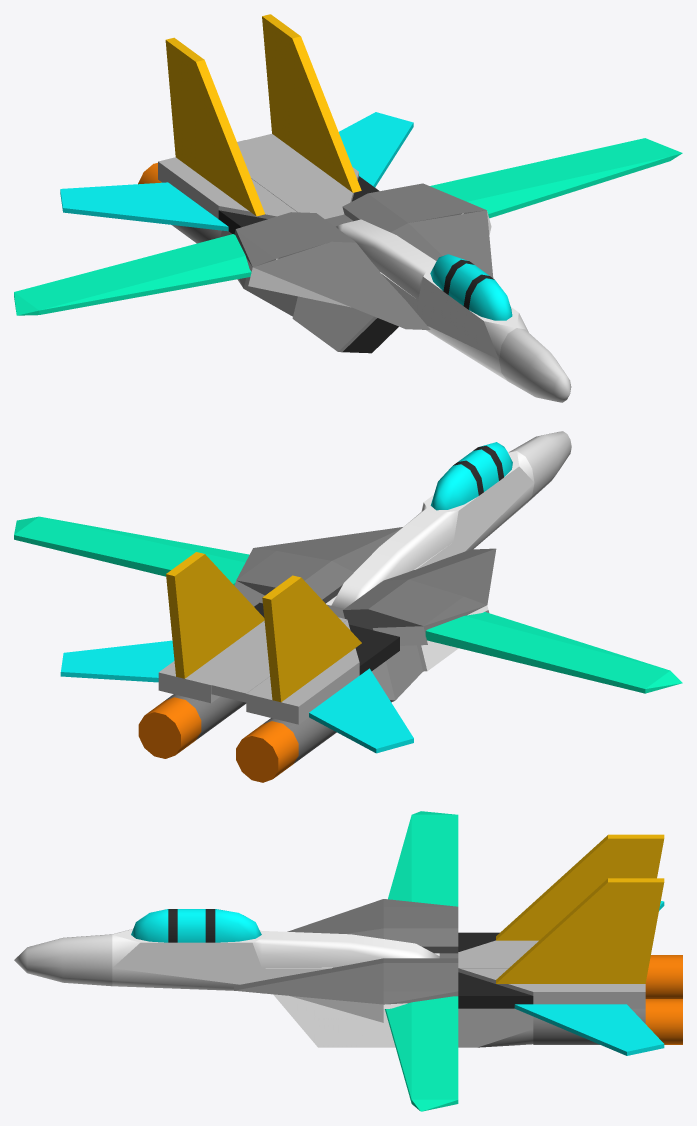
3 renders of one model, top to bottom at view 1: azimuth 30°, elevation 25°; view 2: azimuth 150°, elevation 25°; view 3: azimuth 270°, elevation 25°, orthographic. The views are drawn at different scales.
Parts seen in each view (by area): view 1: the_scene/tri_3546_geometry, the_scene/tri_1356_geometry, the_scene/tri_1656_geometry, the_scene/tri_210_geometry, the_scene/tri_732_geometry, the_scene/tri_1824_geometry, the_scene/tri_1452_geometry, the_scene/tri_2760_geometry, the_scene/tri_1500_geometry, the_scene/tri_120_geometry, the_scene/tri_1788_geometry, the_scene/tri_2664_geometry (+33 smaller); view 2: the_scene/tri_3546_geometry, the_scene/tri_1356_geometry, the_scene/tri_1824_geometry, the_scene/tri_210_geometry, the_scene/tri_1656_geometry, the_scene/tri_3702_geometry, the_scene/tri_3612_geometry, the_scene/tri_1788_geometry, the_scene/tri_2286_geometry, the_scene/tri_2664_geometry, the_scene/tri_732_geometry, the_scene/tri_2760_geometry (+35 smaller); view 3: the_scene/tri_1656_geometry, the_scene/tri_1356_geometry, the_scene/tri_3546_geometry, the_scene/tri_210_geometry, the_scene/tri_2664_geometry, the_scene/tri_1032_geometry, the_scene/tri_3570_geometry, the_scene/tri_1452_geometry, the_scene/tri_372_geometry, the_scene/tri_1380_geometry, the_scene/tri_1212_geometry, the_scene/tri_1824_geometry (+33 smaller).
Part boxes in pixels (x1,y1,x2,y2): the_scene/tri_3546_geometry: (14,234,245,310); the_scene/tri_1356_geometry: (430,138,669,201); the_scene/tri_1656_geometry: (292,36,361,192); the_scene/tri_210_geometry: (196,60,264,216); the_scene/tri_732_geometry: (253,242,404,328); the_scene/tri_1824_geometry: (236,212,442,260); the_scene/tri_1452_geometry: (408,210,493,277); the_scene/tri_2760_geometry: (90,190,228,231); the_scene/tri_1500_geometry: (237,140,344,218); the_scene/tri_120_geometry: (338,282,506,380); the_scene/tri_1788_geometry: (175,45,204,171); the_scene/tri_2664_geometry: (272,21,300,147); the_scene/tri_3546_geometry: (425,616,670,688); the_scene/tri_1356_geometry: (14,516,245,585); the_scene/tri_1824_geometry: (332,529,463,627); the_scene/tri_210_geometry: (301,578,361,687); the_scene/tri_1656_geometry: (205,554,264,663); the_scene/tri_3702_geometry: (246,658,359,724); the_scene/tri_3612_geometry: (158,634,266,703); the_scene/tri_1788_geometry: (273,575,301,701); the_scene/tri_2286_geometry: (353,512,453,602); the_scene/tri_2664_geometry: (176,552,204,678); the_scene/tri_732_geometry: (409,549,496,604); the_scene/tri_2760_geometry: (319,668,406,726); the_scene/tri_1656_geometry: (496,879,607,983); the_scene/tri_1356_geometry: (411,996,458,1099); the_scene/tri_3546_geometry: (411,814,458,906); the_scene/tri_210_geometry: (496,835,607,940); the_scene/tri_2664_geometry: (608,878,645,983); the_scene/tri_1032_geometry: (262,938,427,968); the_scene/tri_3570_geometry: (112,968,308,990); the_scene/tri_1452_geometry: (235,963,383,1004); the_scene/tri_372_geometry: (27,938,112,986); the_scene/tri_1380_geometry: (140,939,252,968); the_scene/tri_1212_geometry: (318,1004,395,1047); the_scene/tri_1824_geometry: (234,906,458,990).
Bounding box in the file's own units: 9.73 × 2.53 × 9.15.
